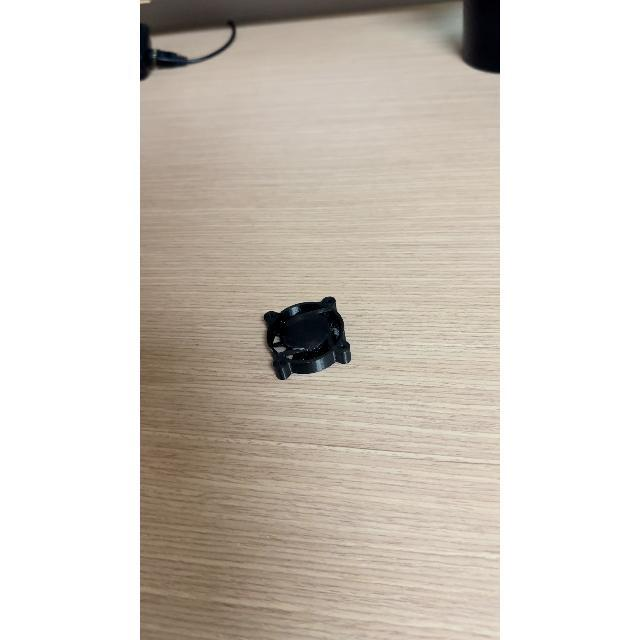Pieza4: (252, 284, 362, 386)
